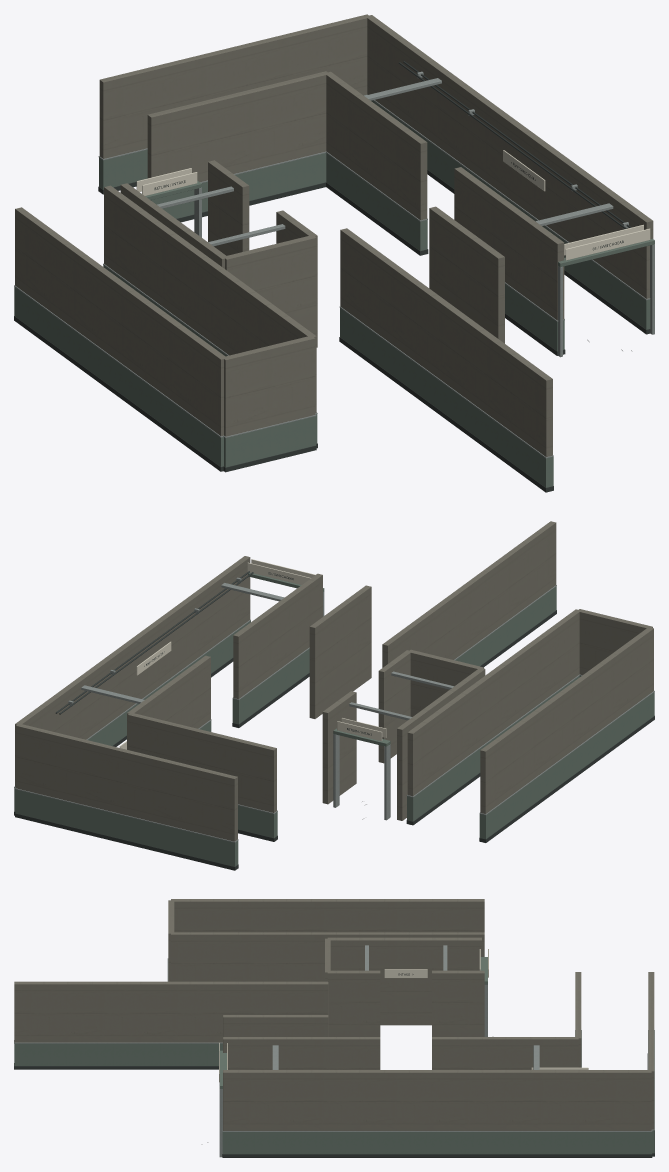
The model's file is power_service.glb.
3 views of the same model, one above another, from view 1: azimuth 30°, elevation 25°; view 2: azimuth 150°, elevation 25°; view 3: azimuth 270°, elevation 25° (orthographic). The views are drawn at different scales.
Parts seen in each view (by area): view 1: power_service / power_plaster, power_service / power_sage_enamel, power_service / power_blackened_steel, power_service / power_galvanized, power_service / power_instrument_ivory; view 2: power_service / power_plaster, power_service / power_sage_enamel, power_service / power_galvanized, power_service / power_blackened_steel, power_service / power_instrument_ivory; view 3: power_service / power_plaster, power_service / power_sage_enamel, power_service / power_blackened_steel, power_service / power_galvanized, power_service / power_instrument_ivory.
Boxes of the visible parts, x1,y1,x2,y2 form: power_service / power_plaster: (15,14,653,456); power_service / power_sage_enamel: (14,100,654,487); power_service / power_blackened_steel: (14,61,650,492); power_service / power_galvanized: (14,71,654,458); power_service / power_instrument_ivory: (136,150,650,260); power_service / power_plaster: (15,521,653,841); power_service / power_sage_enamel: (14,572,654,866); power_service / power_galvanized: (14,577,654,842); power_service / power_blackened_steel: (14,571,654,870); power_service / power_instrument_ivory: (119,559,386,749); power_service / power_plaster: (14,899,654,1130); power_service / power_sage_enamel: (14,957,654,1154); power_service / power_blackened_steel: (14,973,654,1157); power_service / power_galvanized: (14,945,654,1157); power_service / power_instrument_ivory: (219,949,588,1082).
Bounding box in the file's own units: 15.77 × 3.6 × 24.56.
Materials: 6 (3 with a texture image).
